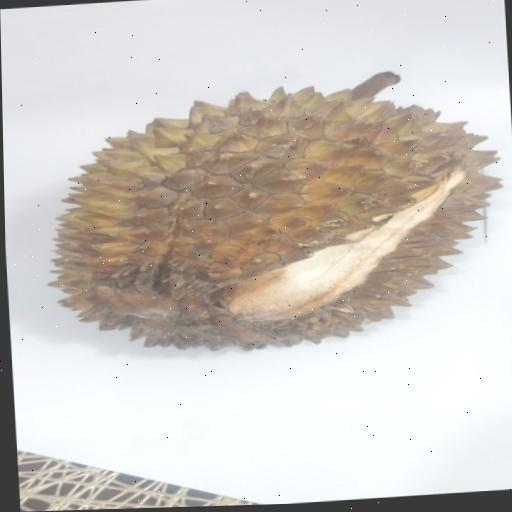rot: (1, 45, 512, 377)
